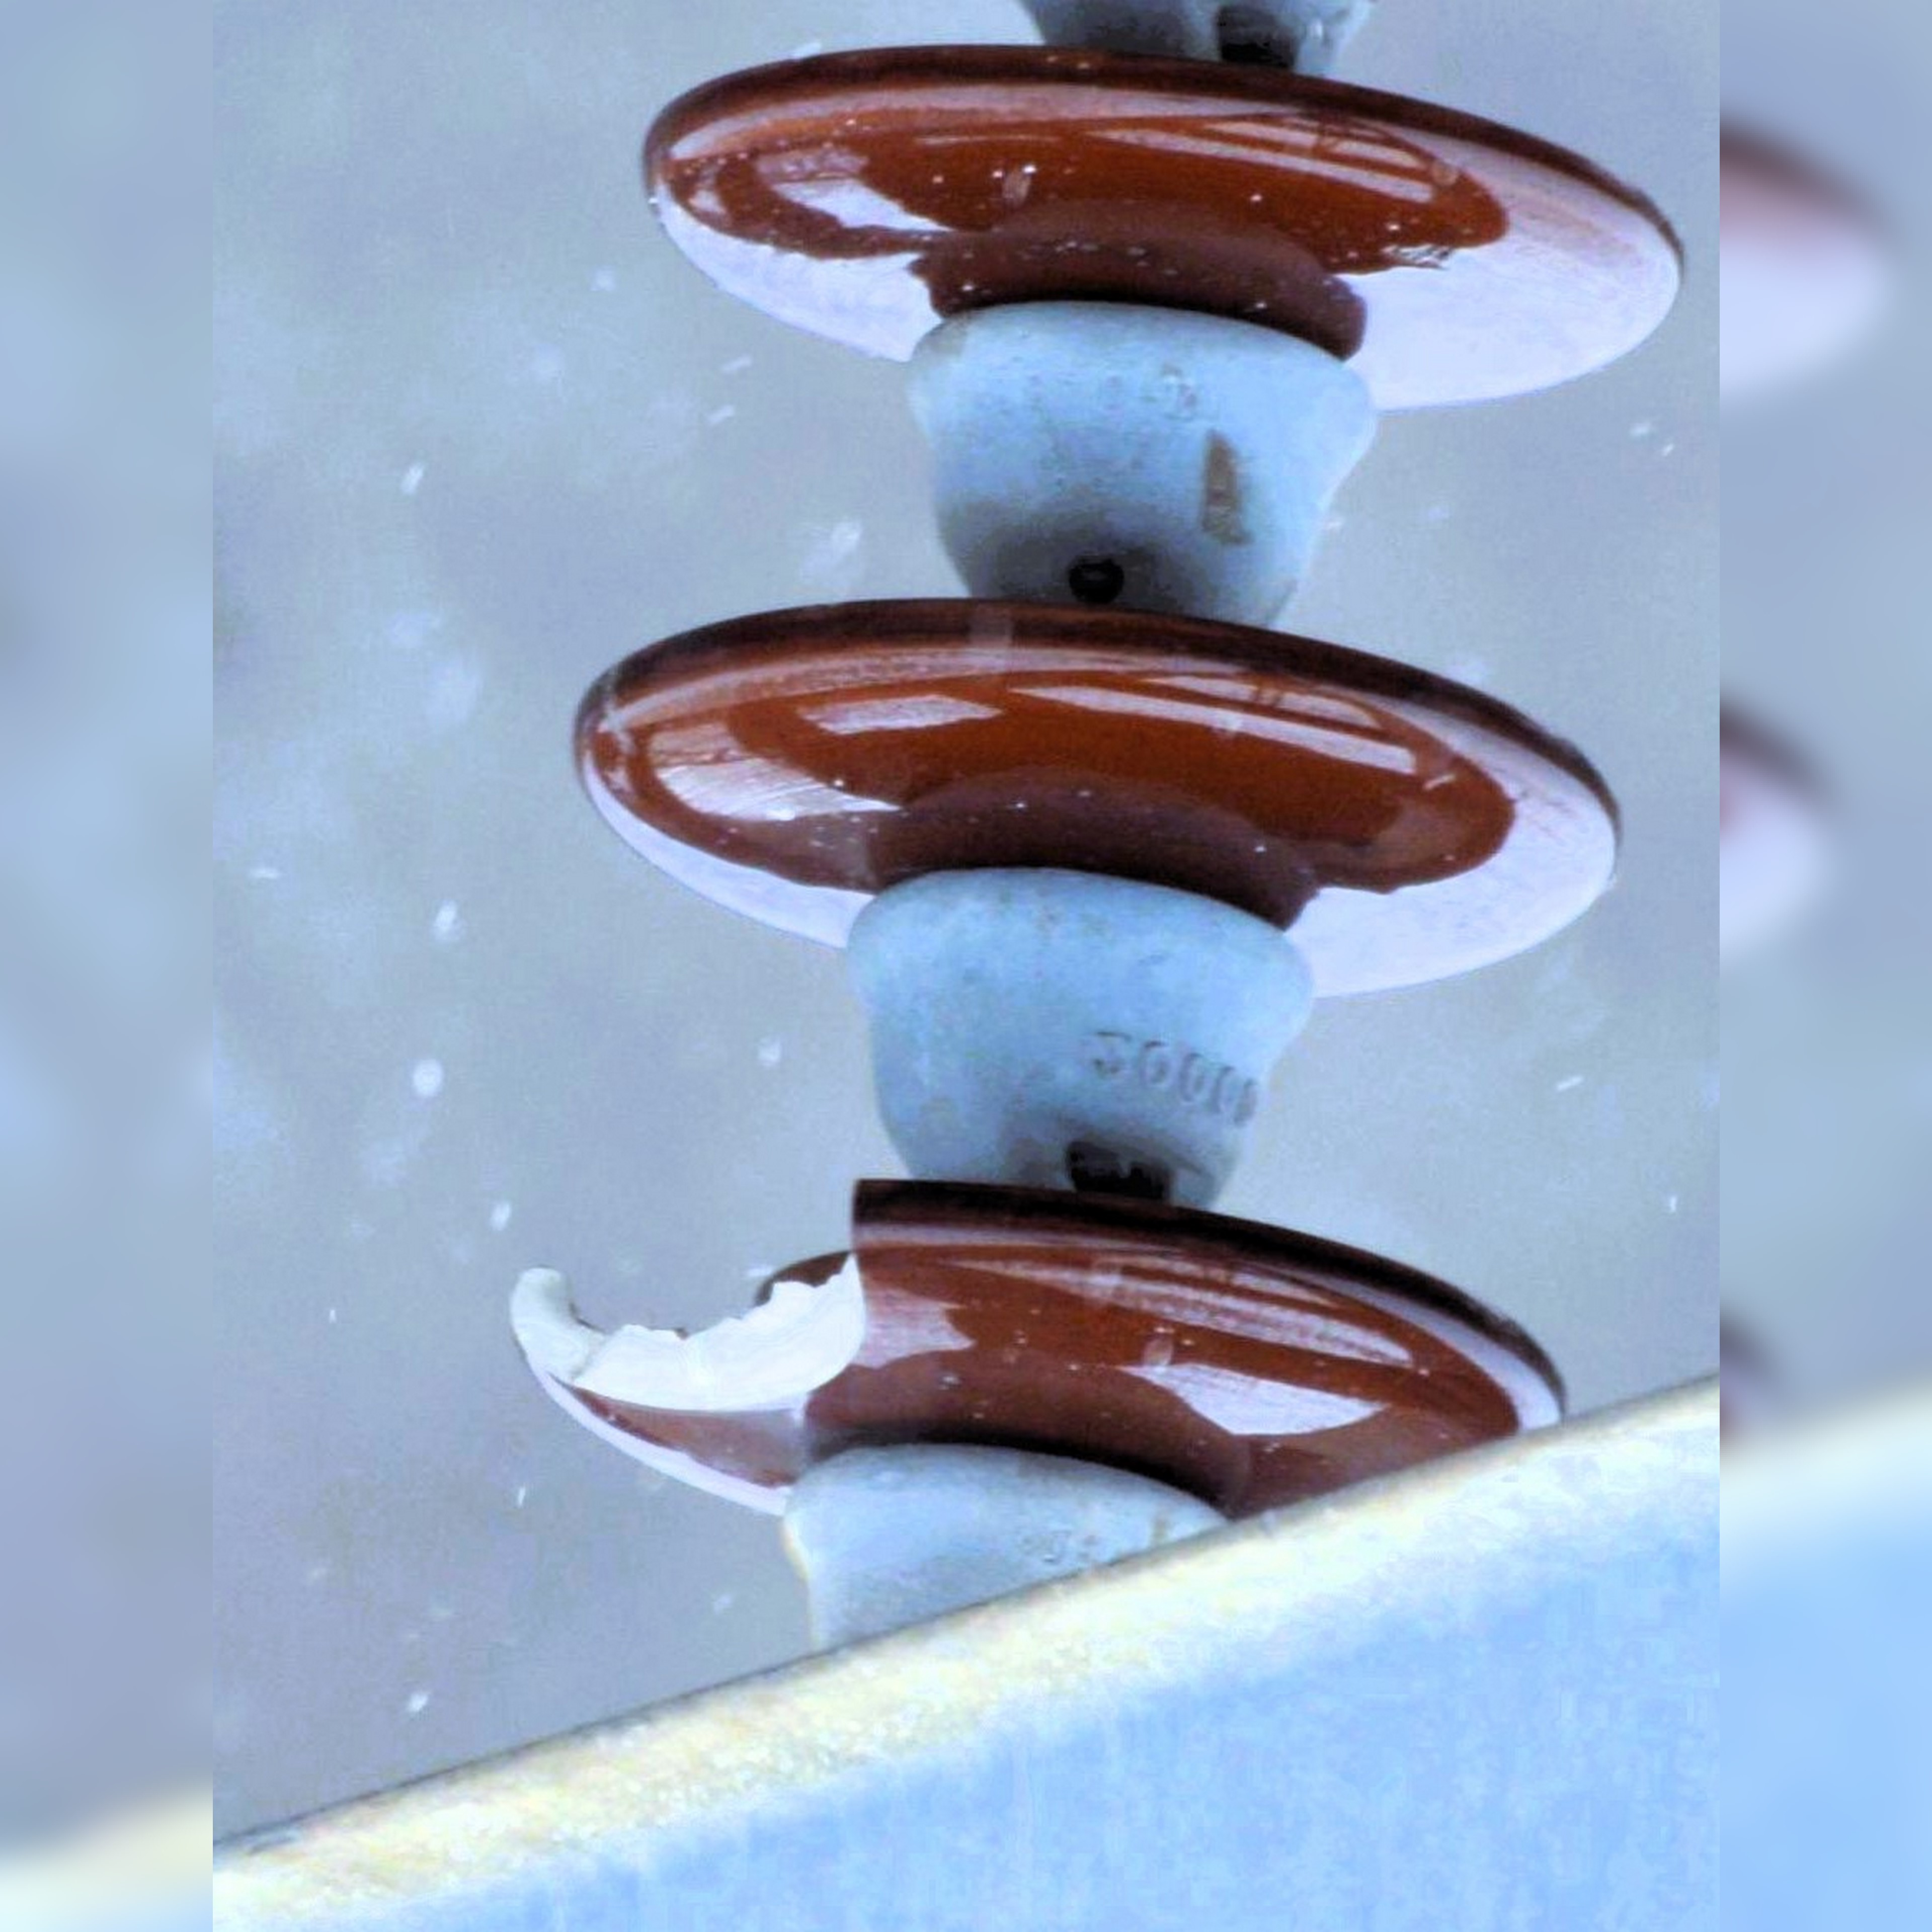insulator breakage: (464, 1162, 1582, 1583)
